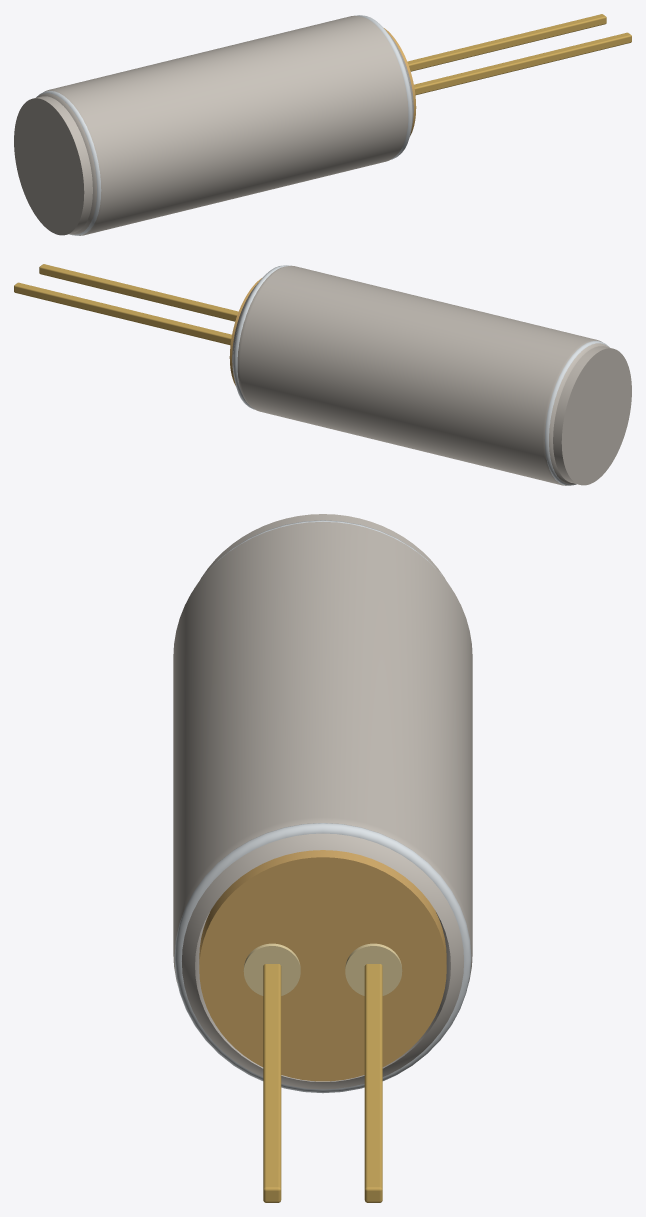
File: sensors-20.glb
3 renders of one model, top to bottom at view 1: azimuth 30°, elevation 25°; view 2: azimuth 150°, elevation 25°; view 3: azimuth 270°, elevation 25°, orthographic. The views are drawn at different scales.
Parts seen in each view (by area): view 1: can, leads; view 2: can, leads; view 3: can, insulator, leads.
Part boxes in pixels (box(x1,y1,x2,y2)): can: box(14, 15, 413, 235); leads: box(407, 14, 631, 95); can: box(232, 265, 631, 485); leads: box(14, 264, 238, 345); can: box(173, 514, 472, 1093); insulator: box(199, 850, 446, 1081); leads: box(263, 964, 382, 1202).
Size of the model in its own units: 2.12 by 0.484 by 0.484.
